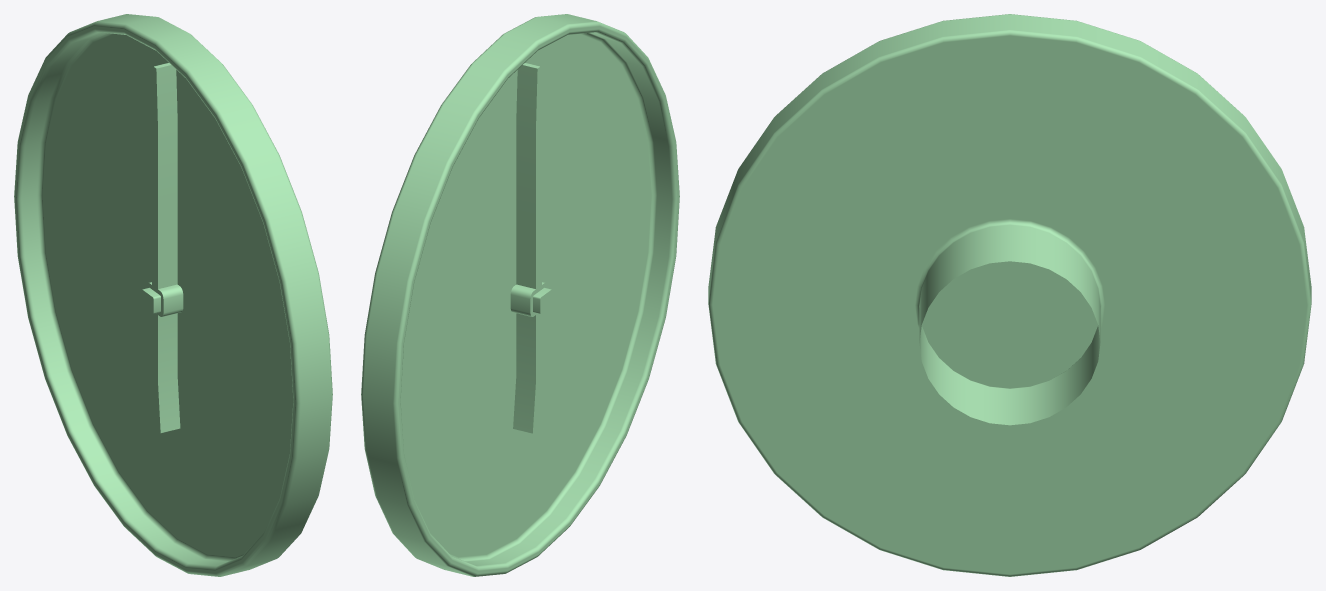
The model's file is Thermostat-Round-Big.fbx.
3 renders of one model, left to right at view 1: azimuth 30°, elevation 25°; view 2: azimuth 150°, elevation 25°; view 3: azimuth 270°, elevation 25°, orthographic. The views are drawn at different scales.
Visible parts, largest first — view 1: Thermostat-Round-Big, Themostat-Round-Pointer; view 2: Thermostat-Round-Big, Themostat-Round-Pointer; view 3: Thermostat-Round-Big.
Part boxes in pixels (x1,y1,x2,y2): Thermostat-Round-Big: (14, 14, 332, 576); Themostat-Round-Pointer: (141, 63, 183, 432); Thermostat-Round-Big: (361, 14, 679, 576); Themostat-Round-Pointer: (510, 63, 552, 433); Thermostat-Round-Big: (708, 14, 1311, 576).
Bounding box in the file's own units: 4.8 × 20 × 20.
